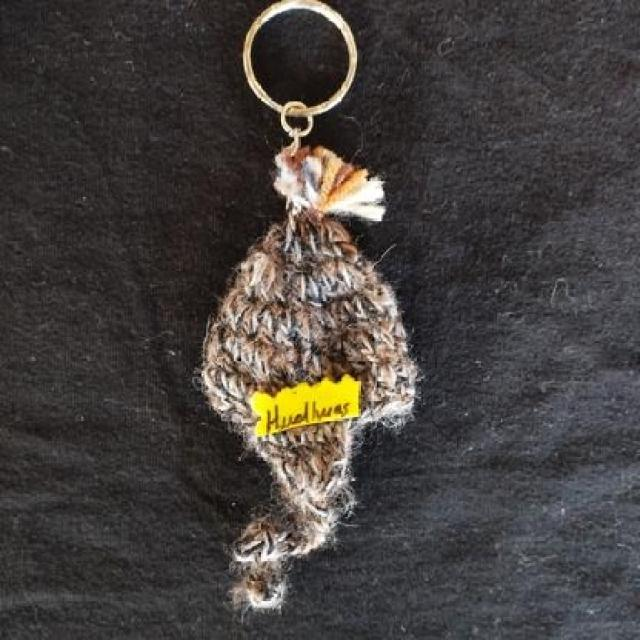Llavero: (197, 142, 421, 613)
